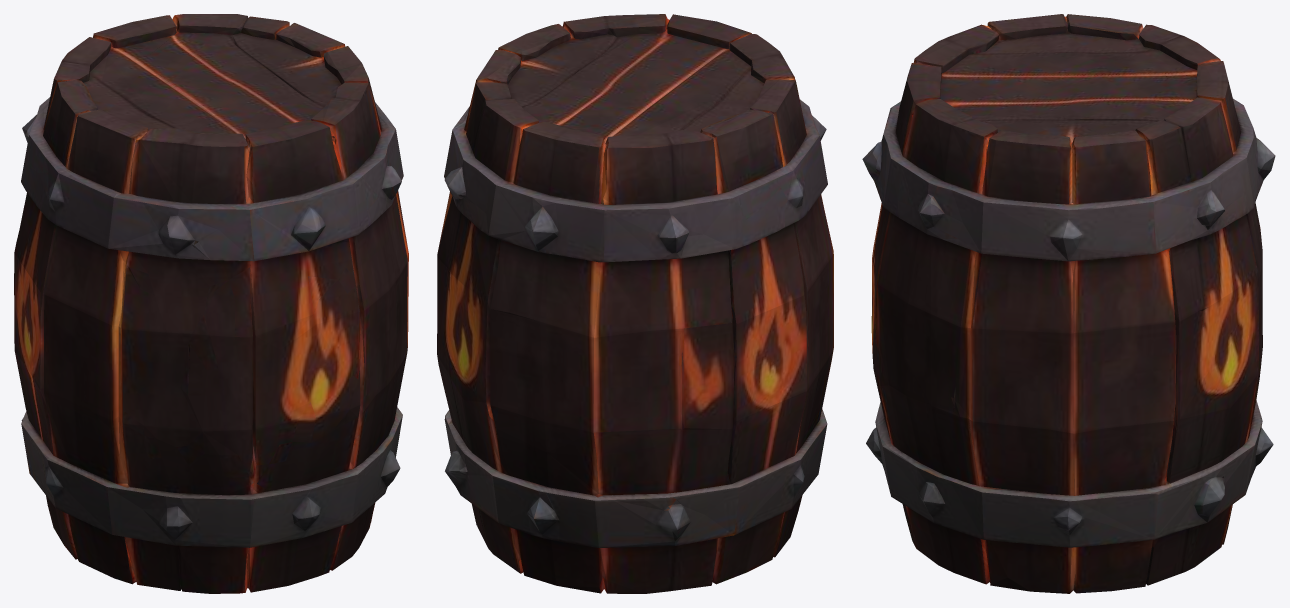
Rendered from d_braises_tonneau_explosif.glb.
3 views of the same model, side by side, from view 1: azimuth 30°, elevation 25°; view 2: azimuth 150°, elevation 25°; view 3: azimuth 270°, elevation 25° (orthographic).
Parts seen in each view (by area): view 1: geometry_0; view 2: geometry_0; view 3: geometry_0.
Boxes of the visible parts, <box> form: geometry_0: <box>14,14,408,593</box>; geometry_0: <box>437,14,833,593</box>; geometry_0: <box>862,14,1275,593</box>.
Bounding box in the file's own units: 0.7914 × 0.9953 × 0.8292.
1 material, 1 textured.
